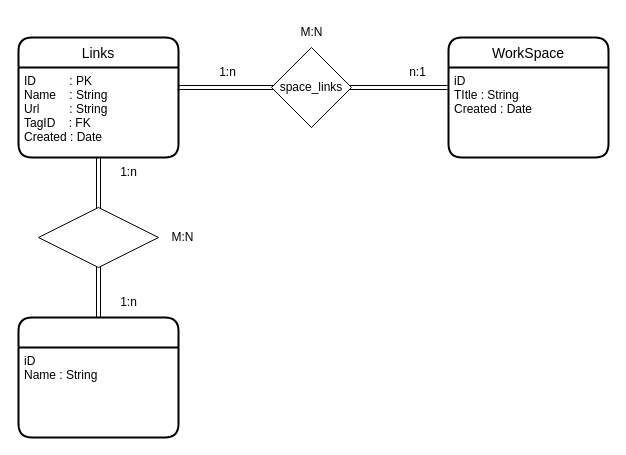
This 626x455 diagram has some shape labels left out. The box of each missing label's shape, as (x1, y1, x2, y2) in pixels:
Tag: (17, 316, 179, 438)
Tag_Links: (38, 206, 158, 268)
